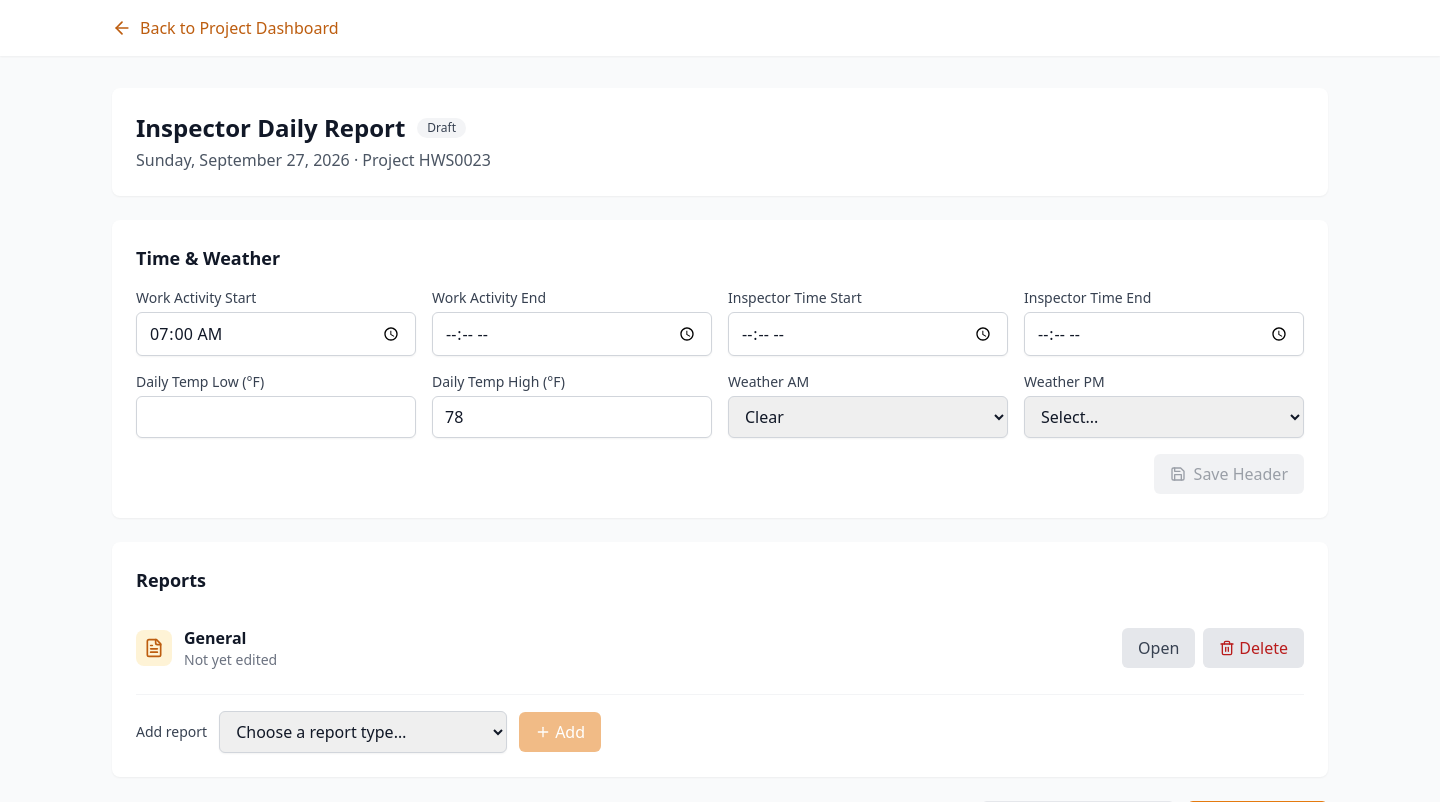
IDRPage — header › sends only the changed fields (cleared → null, temps as numbers), then refetches and shows "Saved at"
Type "48" into the number field labelled "Daily Temp Low (°F)" at (276,417), box x1=136 y1=396 x2=416 y2=438
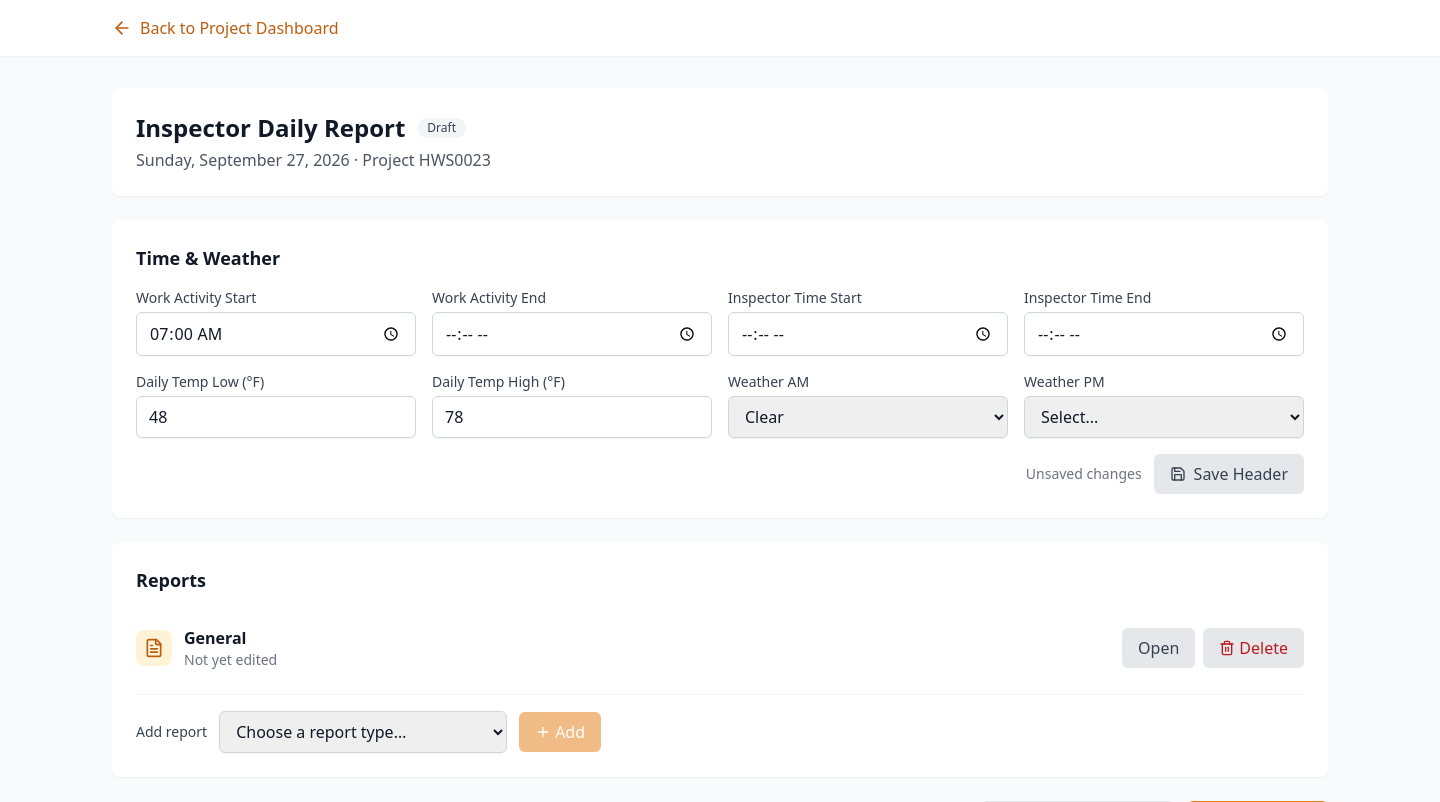
Select "Select..." in the dropdown labelled "Weather AM" at (868,417), box x1=728 y1=396 x2=1008 y2=438
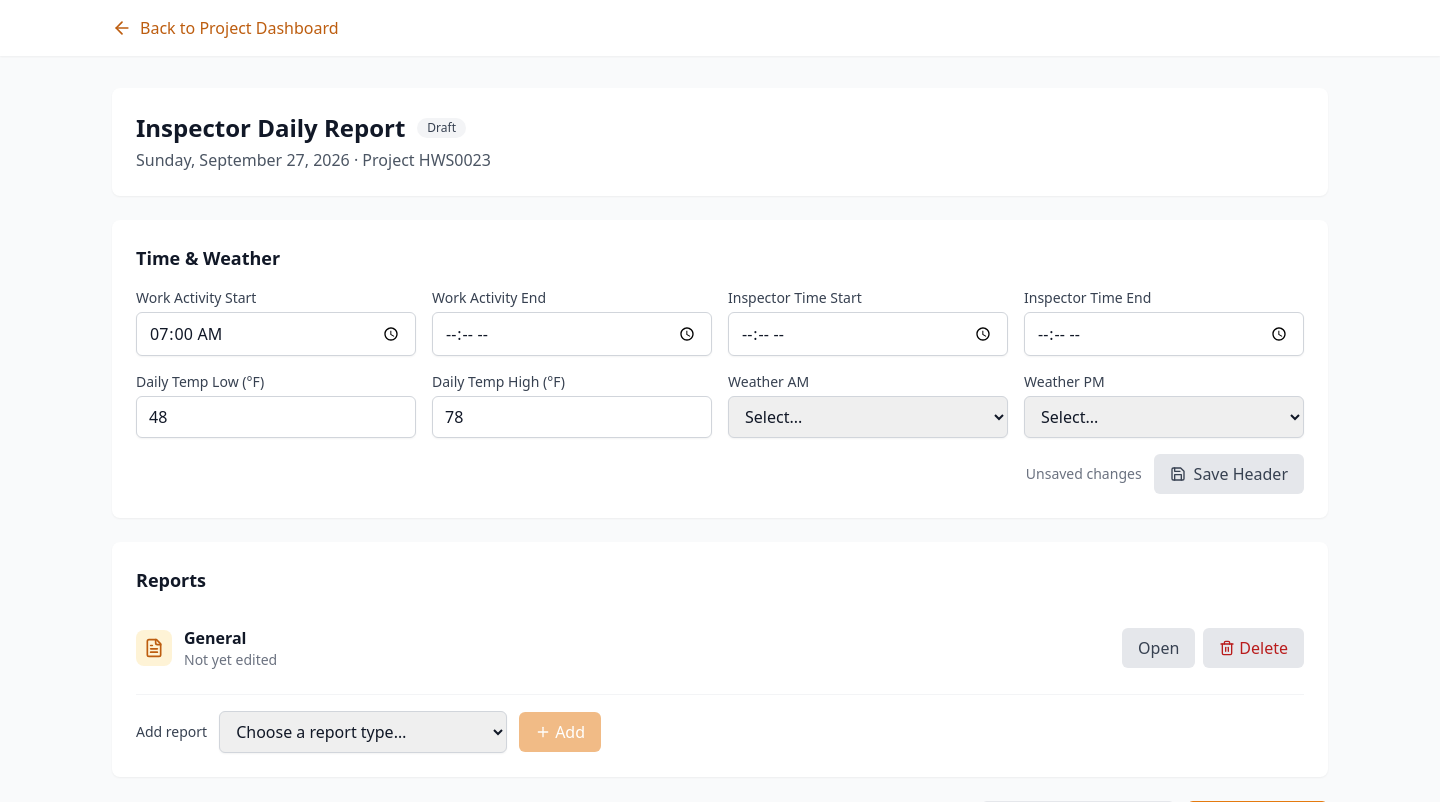
Click the button "Save Header" at (1229,474), box x1=1154 y1=454 x2=1304 y2=494
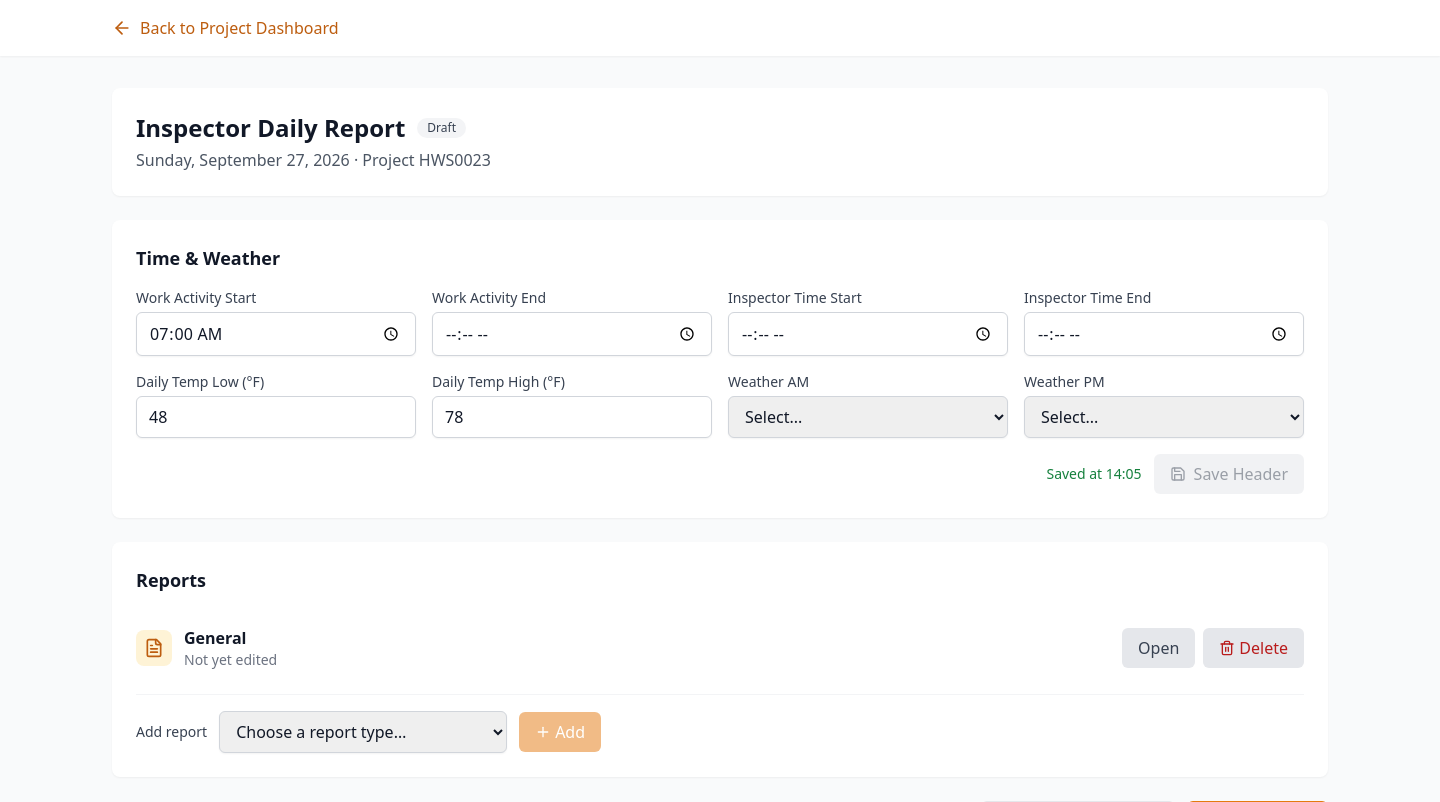
Result: the text "Saved at 14:05" is shown at x1=1046 y1=464 x2=1142 y2=484
Result: the button "Save Header" is disabled at x1=1154 y1=454 x2=1304 y2=494
